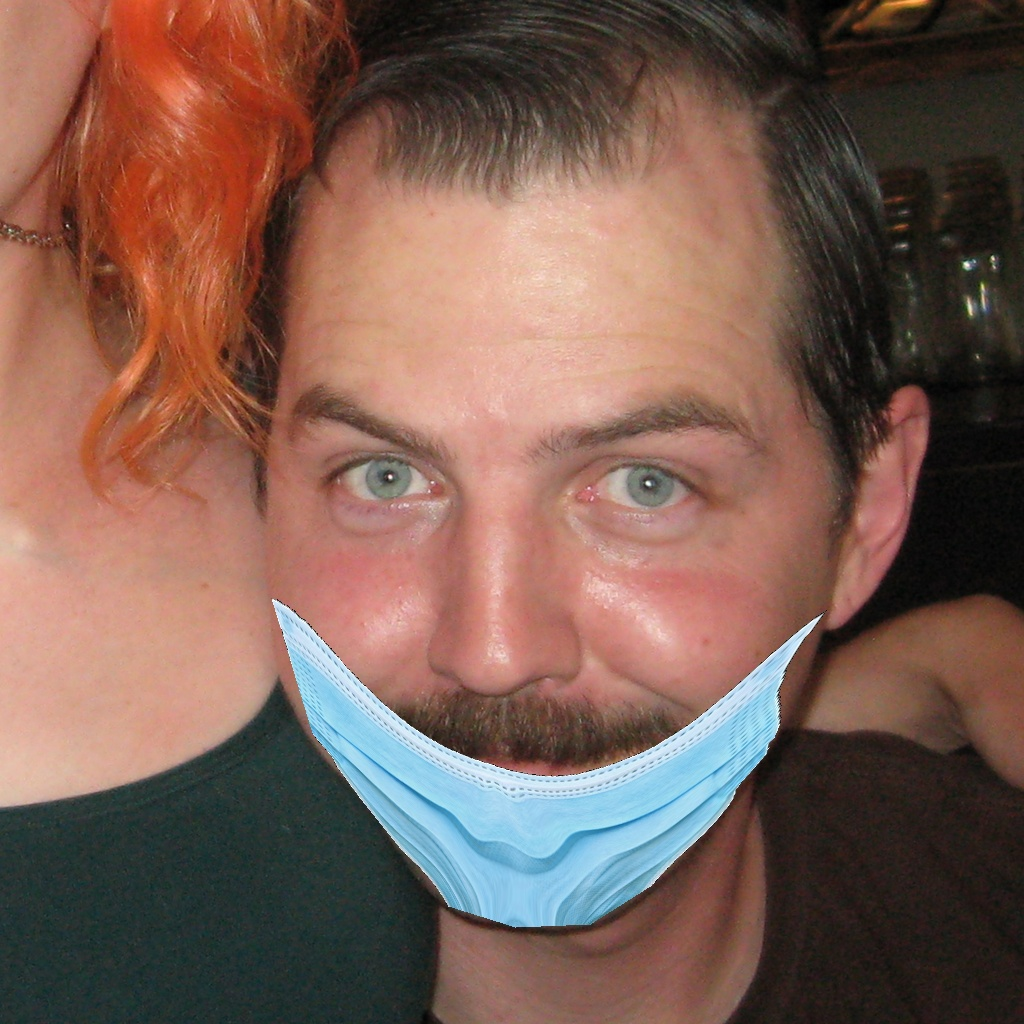mascarilla_mal_puesta: (254, 335, 852, 940)
